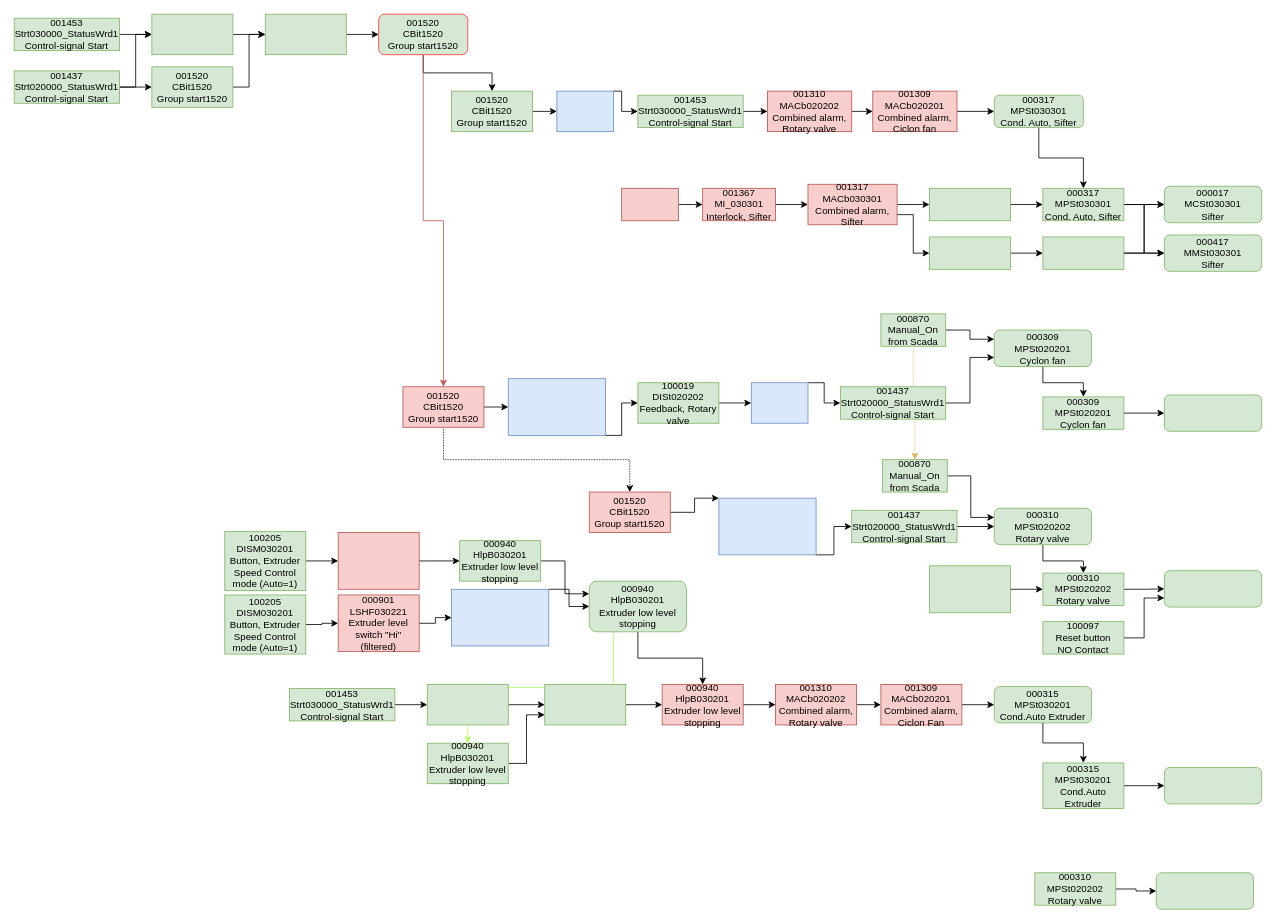
Some shapes in this 1276 by 923 pixel diagram are drawn without their labels. The centre of each missing label's shape, as x and y in pixels:
#00020 T0.1 401500 TimS030201 Timer Extruder Stop: pixel 500 617
#000300 T0.1 401530 T30_020201 Cyclon delay start: pixel 556 406
#00050 T0.1 401531: pixel 779 402
#000550 T0.1 401507 T07_010202 Timer, Rotary valve run: pixel 767 526
#00300 T0.1 401629: pixel 585 111
000009 MCSt020201 Cyclon fan: pixel 1213 412
000010 MCSt020202 Rotary valve: pixel 1213 588
000012 MCSt030222 Rotary valve: pixel 1204 890
000015 MCSt030201 Extruder: pixel 1213 785
000417 MPSt030301 Cond. Man, Sifter: pixel 1083 252
000902 LSLF030220 Extruder low level switch "Low" (filtered): pixel 378 560
001010 Prog020202 Auto mode Rotary valve: pixel 969 589
001017 Prog030301 Auto mode, Sifter: pixel 969 204
001117 Man_030301 Man mode, Sifter: pixel 969 252
001458 ESTOP: pixel 649 204
100204 DISp030201 Button,Extruder STOP: pixel 585 704
100204 DISr030201 Button,Extruder START: pixel 467 704
100207 DISr030301 Button,Sifter Start: pixel 192 34
100208 DISp030301 Button,Sifter Stop: pixel 305 34
